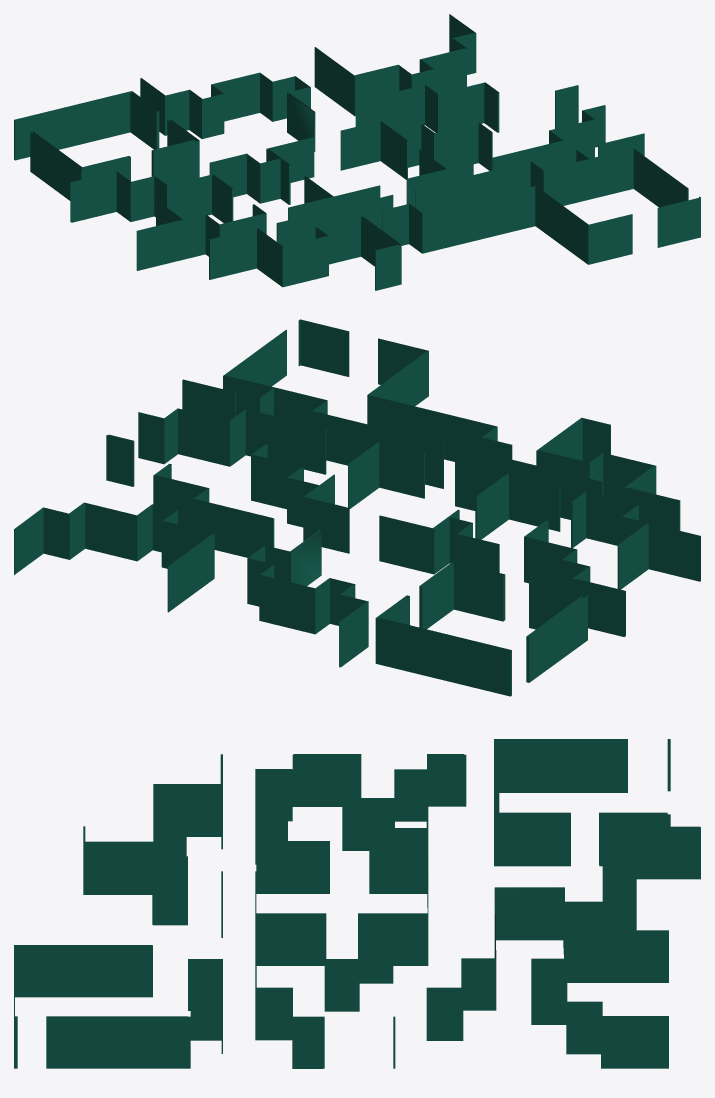
The model's file is Walls.fbx.
3 renders of one model, top to bottom at view 1: azimuth 30°, elevation 25°; view 2: azimuth 150°, elevation 25°; view 3: azimuth 270°, elevation 25°, orthographic. The views are drawn at different scales.
Parts seen in each view (by area): view 1: Cube.253, Cube.240, Cube.293, Cube.279, Cube.220, Cube.314, Cube.256, Cube.268, Cube.320, Cube.232, Cube.261, Cube.271 (+52 smaller); view 2: Cube.240, Cube.253, Cube.226, Cube.295, Cube.279, Cube.314, Cube.320, Cube.330, Cube.235, Cube.230, Cube.318, Cube.271 (+45 smaller); view 3: Cube.225, Cube.256, Cube.320, Cube.338, Cube.258, Cube.233, Cube.278, Cube.294, Cube.242, Cube.346, Cube.270, Cube.323 (+24 smaller).
Boxes of the visible parts, x1,y1,x2,y2 form: Cube.253: (422,186,535,253); Cube.240: (14,91,131,160); Cube.293: (543,148,633,205); Cube.279: (415,161,530,213); Cube.220: (276,194,393,246); Cube.314: (355,85,424,130); Cube.256: (535,186,588,264); Cube.268: (209,228,257,279); Cube.320: (30,131,82,200); Cube.232: (70,171,116,222); Cube.261: (282,236,328,287); Cube.271: (136,220,182,270); Cube.240: (375,618,511,696); Cube.253: (367,395,497,463); Cube.226: (455,460,560,531); Cube.295: (245,409,326,474); Cube.279: (312,411,443,488); Cube.314: (193,499,274,557); Cube.320: (526,595,587,682); Cube.330: (259,575,315,634); Cube.235: (348,434,424,498); Cube.230: (379,515,434,574); Cube.318: (453,561,505,621); Cube.271: (648,523,700,581); Cube.225: (46,1016,190,1068); Cube.256: (14,945,152,997); Cube.320: (494,739,627,792); Cube.338: (564,930,668,982); Cube.258: (83,841,186,894); Cube.233: (494,812,570,866); Cube.278: (256,841,329,893); Cube.294: (256,913,326,965); Cube.242: (494,887,564,940); Cube.346: (601,1016,668,1068); Cube.270: (292,754,361,806); Cube.323: (635,826,700,879).
Size of the model in its own units: 4229 by 335 by 4007.
